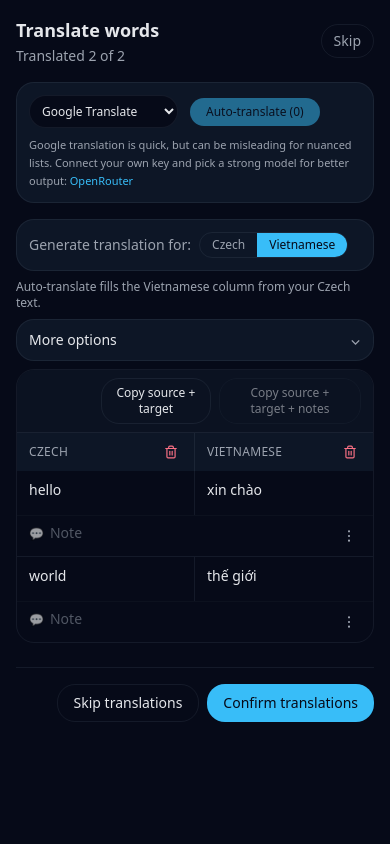
Test case: TranslationStep Google usage gating › copies source and translated texts in row order
Click the button "Copy source + target" at (156, 401), box [101,378,211,424]
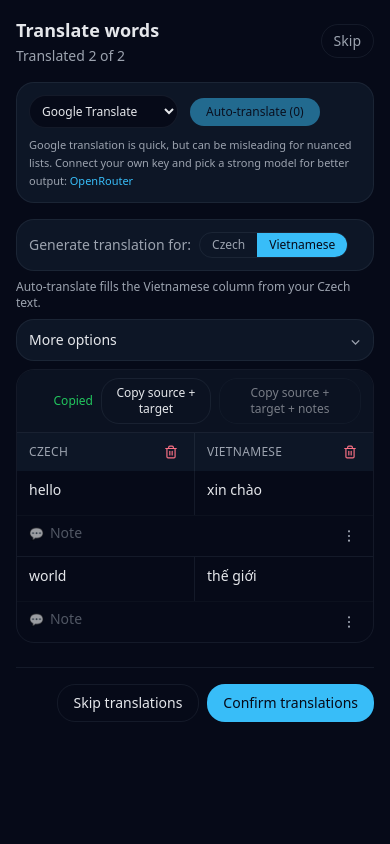
Expected: the message reads "Copied", [54,392,93,409]
